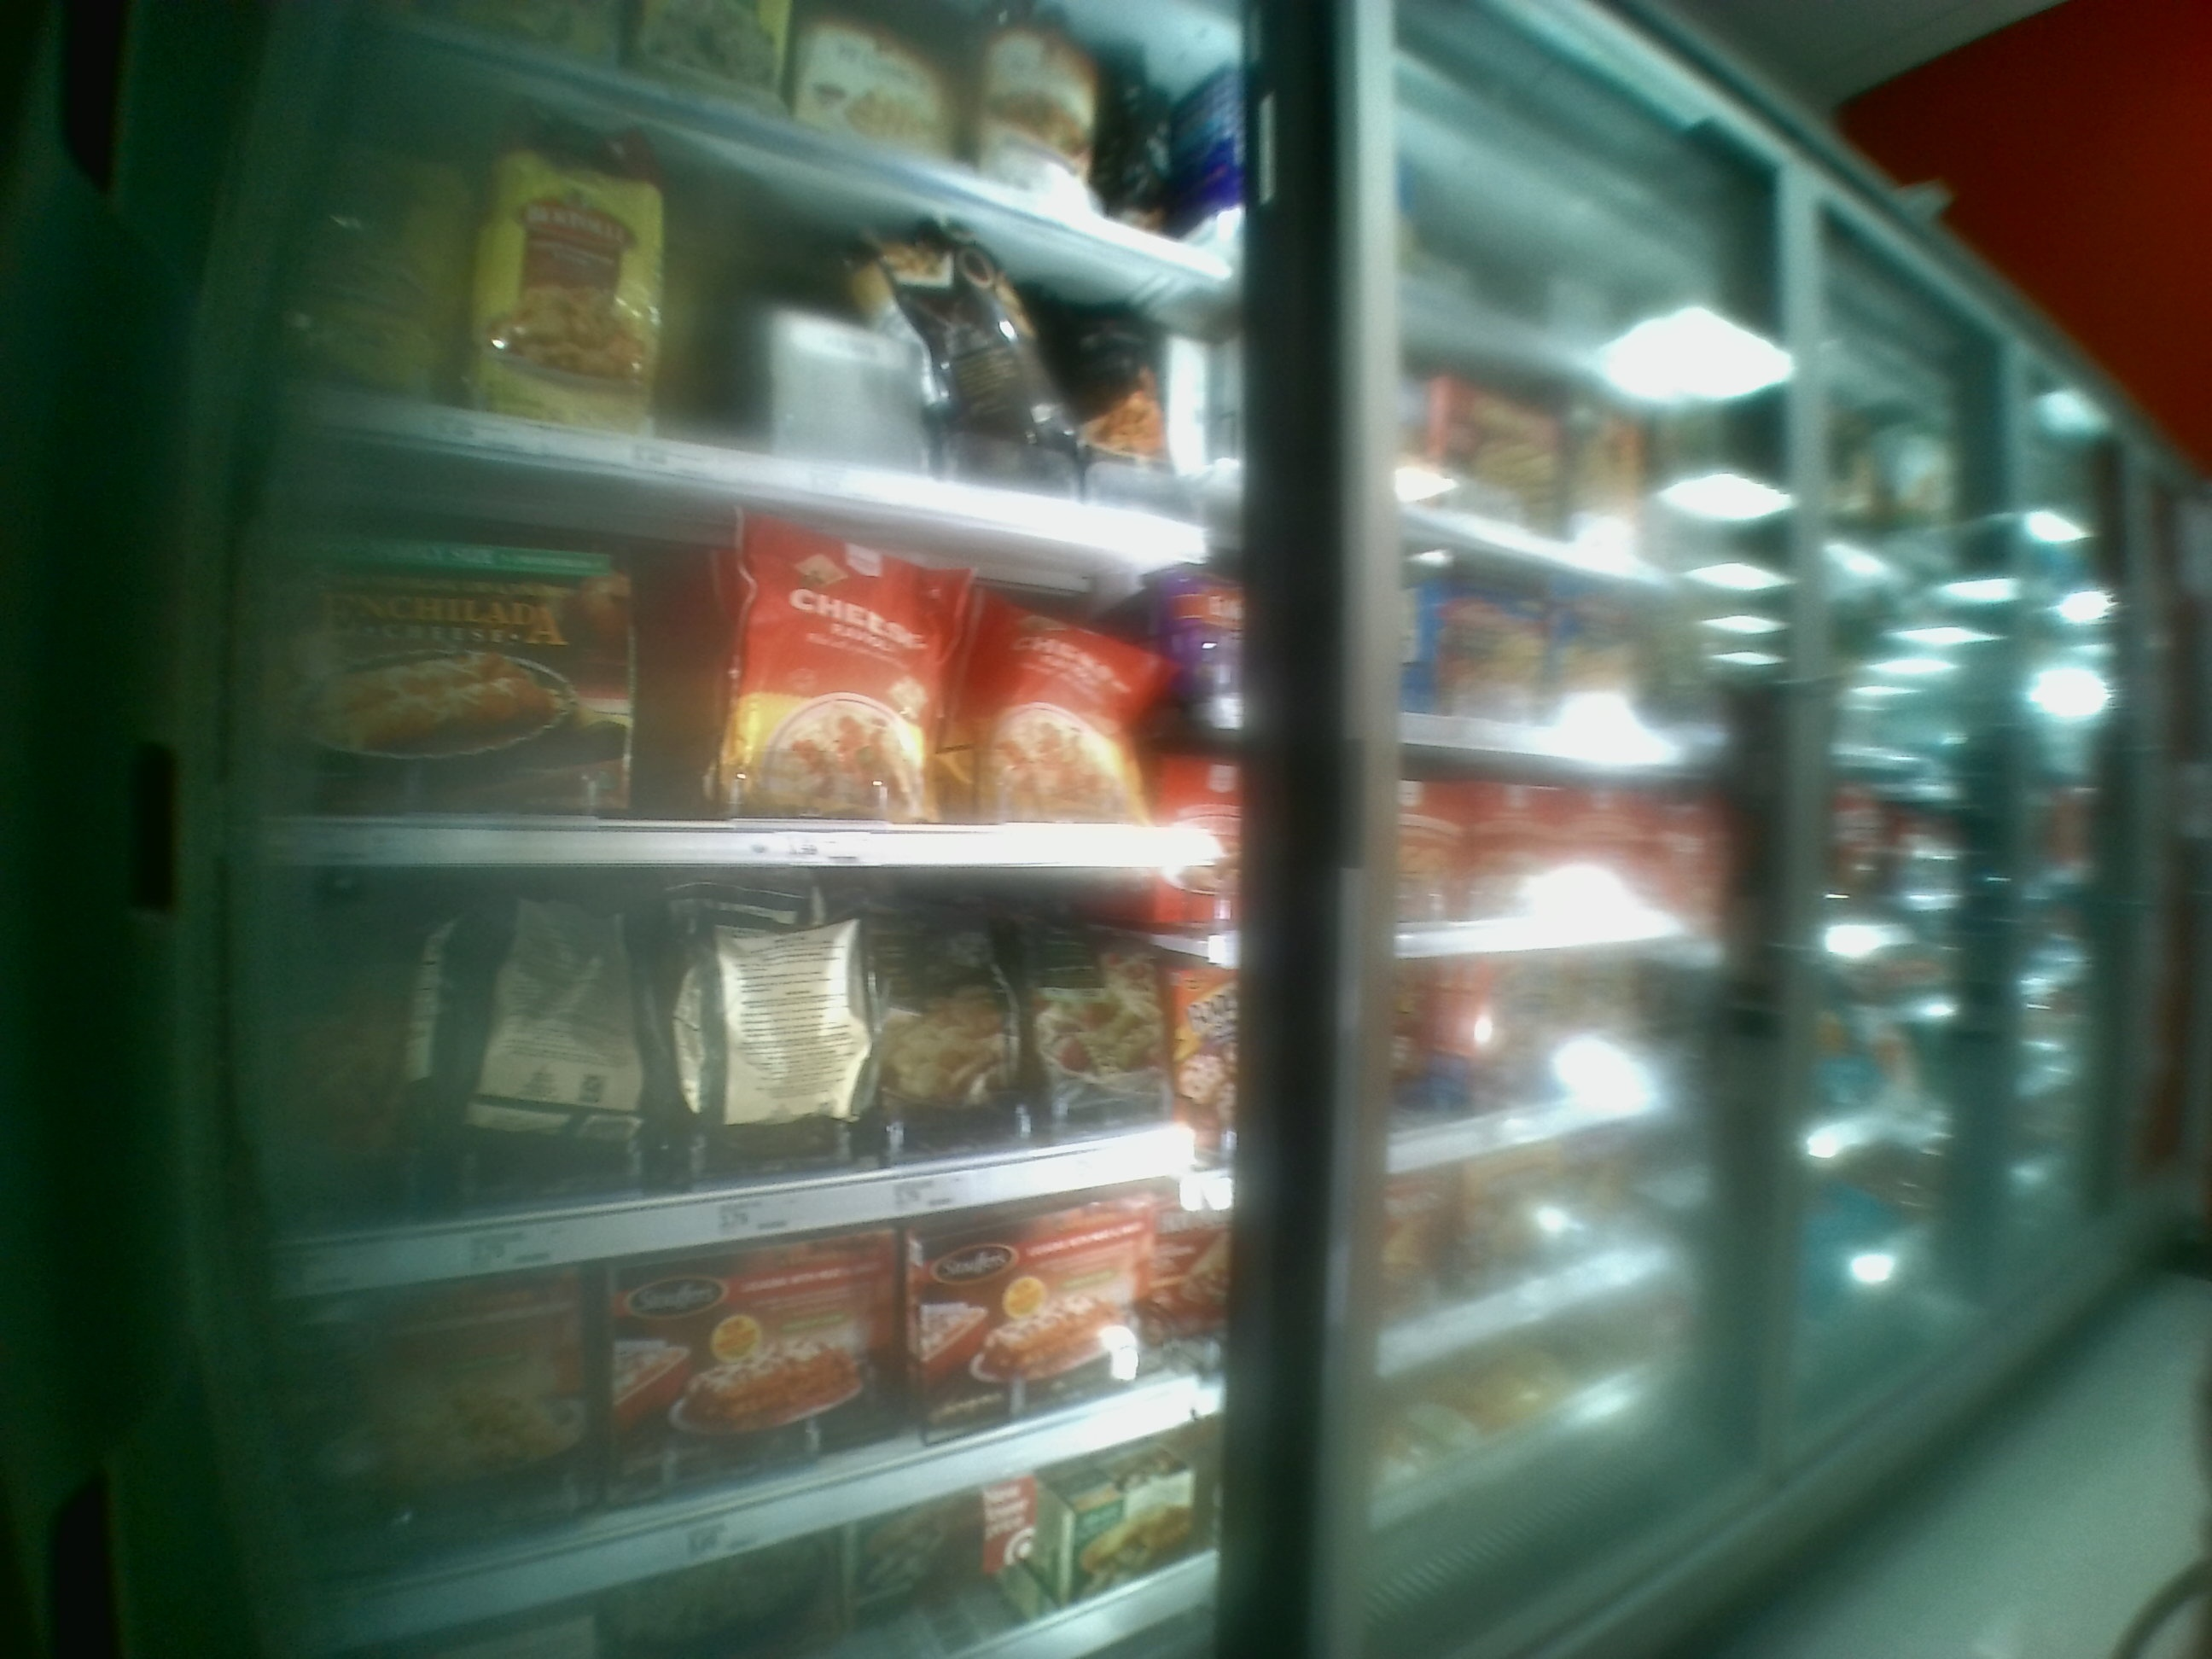shelf: (251, 397, 1245, 877), (254, 864, 1240, 1300)
